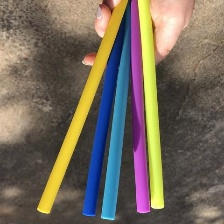drinking_straw: (33, 0, 131, 219), (133, 0, 169, 214)
